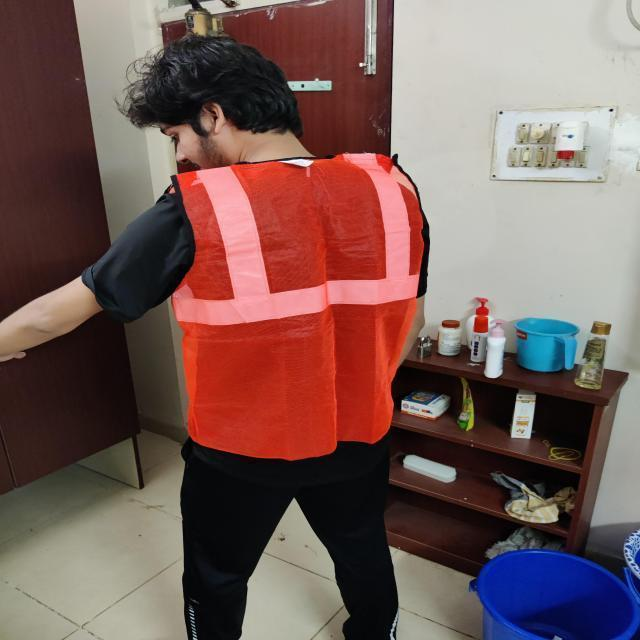no-helmet: (125, 35, 276, 135)
vest: (160, 156, 439, 464)
